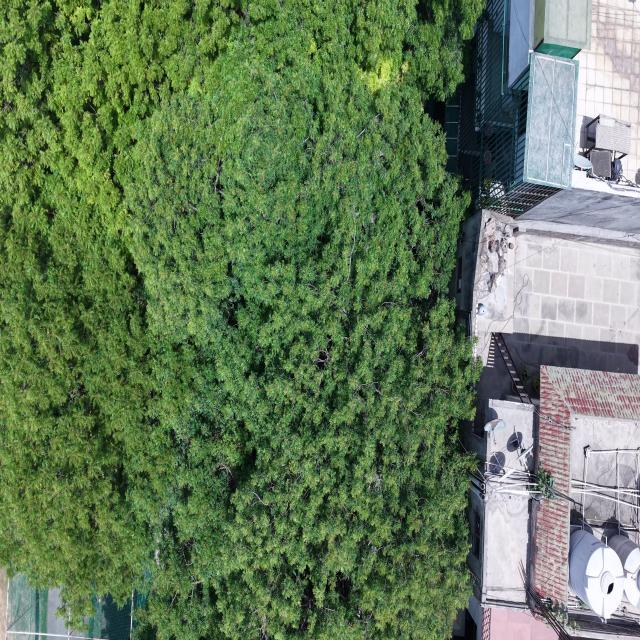ROOFTOP_BUILDING: (452, 0, 639, 639), (452, 208, 639, 637), (461, 366, 639, 638), (457, 0, 639, 216), (454, 210, 639, 376), (532, 366, 639, 627), (0, 571, 145, 639)
VEGETATION_TREE: (0, 0, 481, 639)
